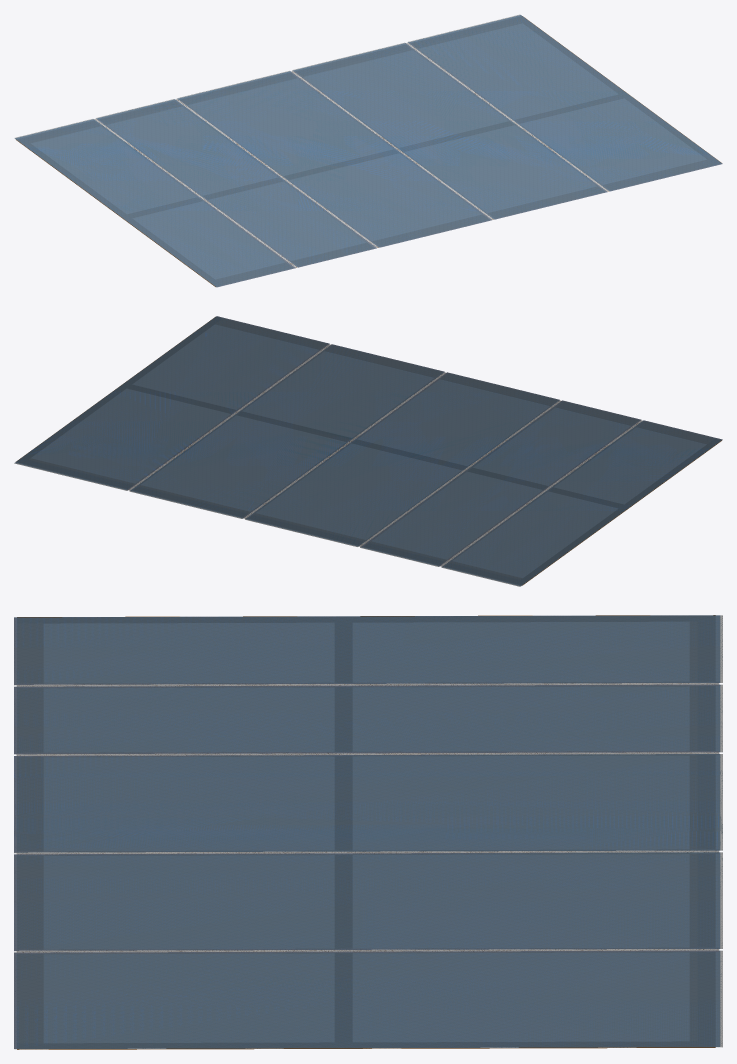
The model's file is TechoNov04.fbx.
The picture shows the model from 3 angles, top to bottom: view 1: azimuth 30°, elevation 25°; view 2: azimuth 150°, elevation 25°; view 3: azimuth 270°, elevation 25°; orthographic projection. The views are drawn at different scales.
Visible parts, largest first — view 1: Half_Roof_Panel1, Half_Roof_Panel2, Half_Roof_Panel3, Half_Roof_Panel_1_1, Half_Roof_Panel_1_2, Roof_Bar1, Roof_Bar2, Roof_Bar4, Roof_Bar3; view 2: Half_Roof_Panel2, Half_Roof_Panel1, Half_Roof_Panel3, Half_Roof_Panel_1_1, Half_Roof_Panel_1_2, Roof_Bar1, Roof_Bar3, Roof_Bar4, Roof_Bar2; view 3: Half_Roof_Panel1, Half_Roof_Panel2, Half_Roof_Panel3, Half_Roof_Panel_1_1, Half_Roof_Panel_1_2, Roof_Bar4, Roof_Bar3, Roof_Bar1, Roof_Bar2, Side_Roof_Frame2.
Boxes of the visible parts, bbox=[...] form: Half_Roof_Panel1: bbox=[407, 14, 722, 191]; Half_Roof_Panel2: bbox=[292, 42, 607, 219]; Half_Roof_Panel3: bbox=[177, 70, 491, 247]; Half_Roof_Panel_1_1: bbox=[14, 119, 295, 287]; Half_Roof_Panel_1_2: bbox=[95, 99, 376, 267]; Roof_Bar1: bbox=[94, 119, 297, 267]; Roof_Bar2: bbox=[291, 71, 493, 219]; Roof_Bar4: bbox=[176, 99, 378, 247]; Roof_Bar3: bbox=[406, 43, 608, 191]; Half_Roof_Panel2: bbox=[129, 344, 444, 518]; Half_Roof_Panel1: bbox=[14, 316, 329, 490]; Half_Roof_Panel3: bbox=[245, 372, 559, 546]; Half_Roof_Panel_1_1: bbox=[441, 420, 722, 586]; Half_Roof_Panel_1_2: bbox=[360, 400, 641, 566]; Roof_Bar1: bbox=[439, 420, 642, 566]; Roof_Bar3: bbox=[128, 344, 331, 490]; Roof_Bar4: bbox=[358, 400, 561, 546]; Roof_Bar2: bbox=[243, 372, 446, 518]; Half_Roof_Panel1: bbox=[14, 950, 722, 1049]; Half_Roof_Panel2: bbox=[14, 852, 722, 950]; Half_Roof_Panel3: bbox=[14, 754, 722, 852]; Half_Roof_Panel_1_1: bbox=[14, 615, 722, 684]; Half_Roof_Panel_1_2: bbox=[14, 684, 722, 754]; Roof_Bar4: bbox=[16, 751, 719, 756]; Roof_Bar3: bbox=[14, 948, 719, 953]; Roof_Bar1: bbox=[14, 682, 719, 687]; Roof_Bar2: bbox=[14, 850, 719, 854]; Side_Roof_Frame2: bbox=[17, 1047, 715, 1049].
Size of the model in its own units: 483 by 1.41 by 335.
